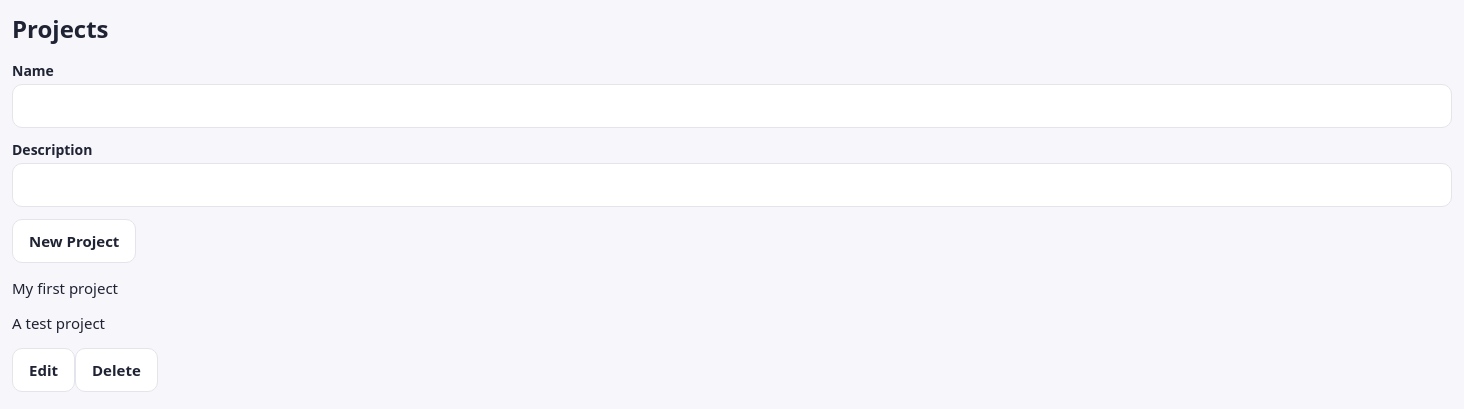
Scenario: ProjectsPage › edits a project and shows the updated values
The width and height of the screenshot is (1464, 409).
Expected: the text "My first project" is shown, x1=12 y1=278 x2=118 y2=298
Click the button "Edit": (44, 370) x1=12 y1=348 x2=75 y2=392
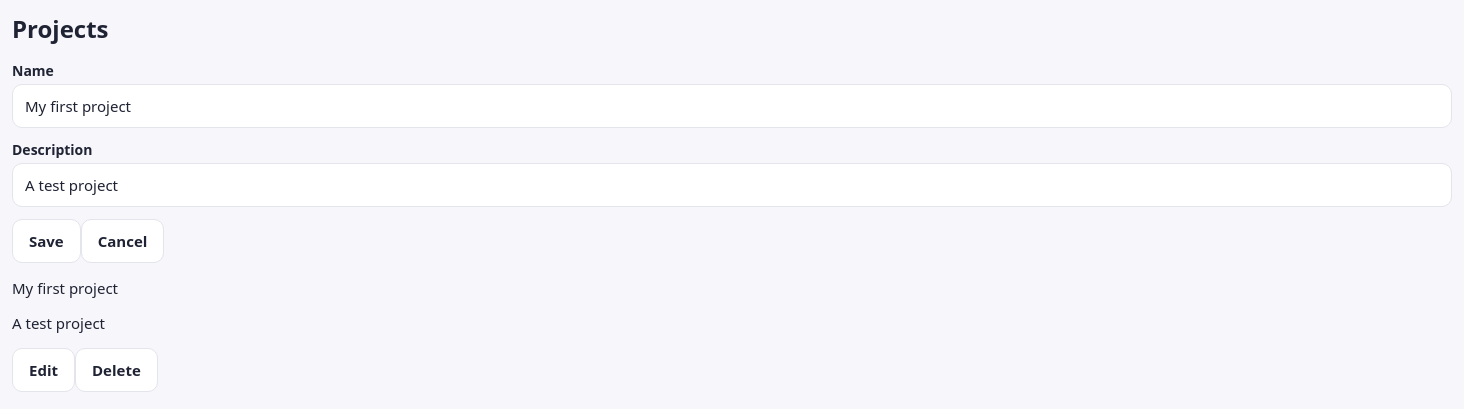
Replace the text in the field labelled "Name" with "Renamed project": (732, 106) x1=12 y1=84 x2=1452 y2=128
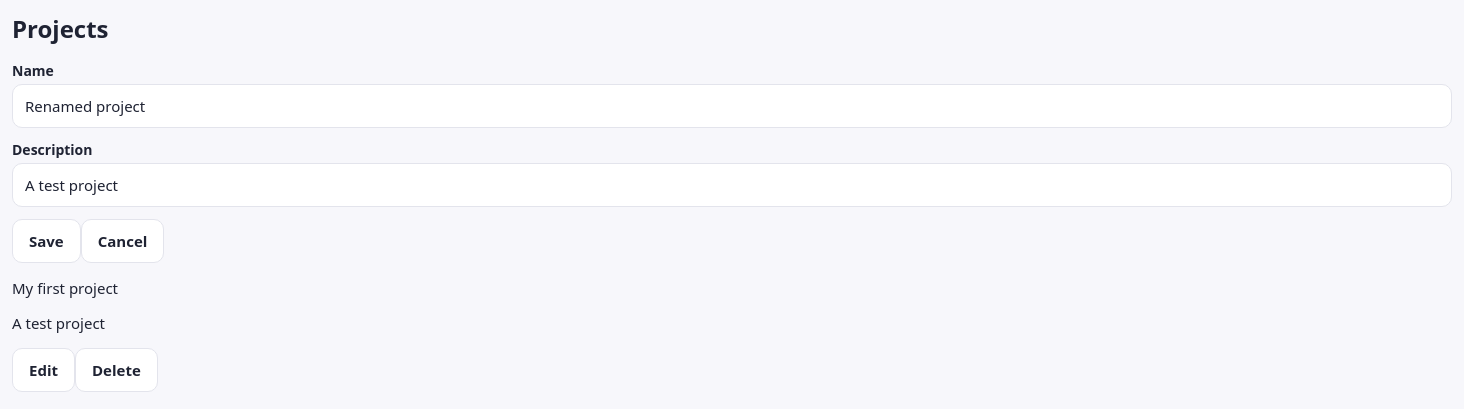
Click the button "Save": (46, 241) x1=12 y1=219 x2=81 y2=263
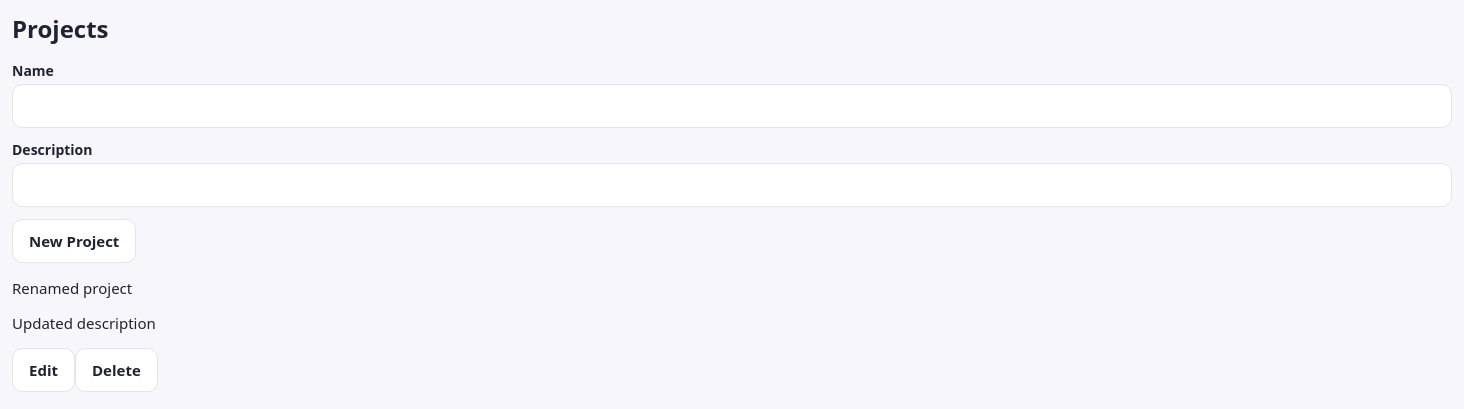
Expected: the text "Renamed project" is shown, x1=12 y1=278 x2=132 y2=298
Expected: the text "Updated description" is shown, x1=12 y1=313 x2=156 y2=333
